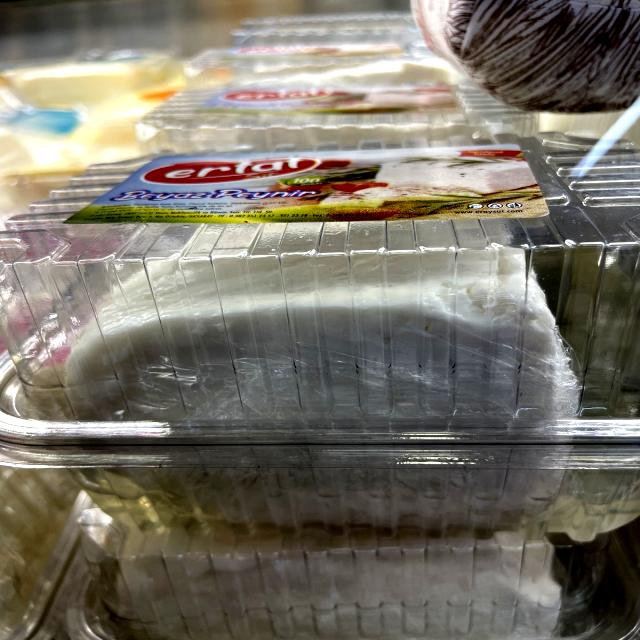cheese: (0, 176, 640, 539)
